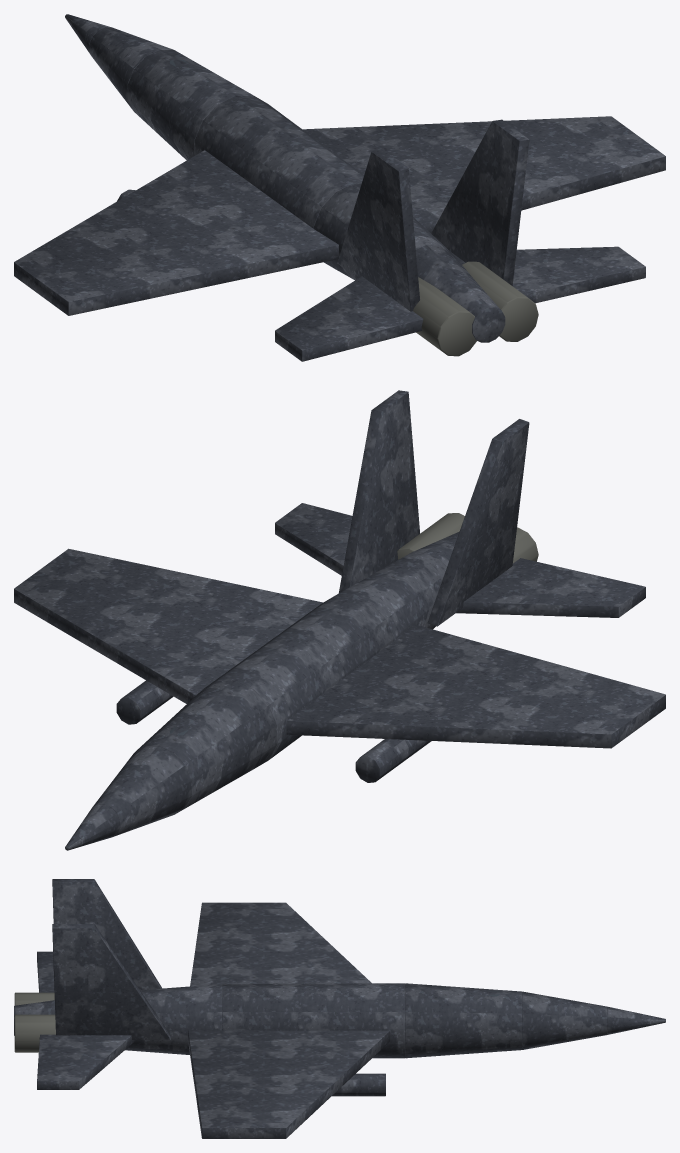
File: air_e4_us_strike_LOD0.glb
The picture shows the model from 3 angles, top to bottom: view 1: azimuth 30°, elevation 25°; view 2: azimuth 150°, elevation 25°; view 3: azimuth 270°, elevation 25°; orthographic projection. The views are drawn at different scales.
Visible parts, largest first — view 1: air_e4_us_strike_LOD0_body, air_e4_us_strike_LOD0_gun; view 2: air_e4_us_strike_LOD0_body, air_e4_us_strike_LOD0_gun; view 3: air_e4_us_strike_LOD0_body, air_e4_us_strike_LOD0_gun.
Part boxes in pixels (x1,y1,x2,y2): air_e4_us_strike_LOD0_body: (14, 14, 665, 361); air_e4_us_strike_LOD0_gun: (413, 261, 538, 356); air_e4_us_strike_LOD0_body: (14, 390, 665, 850); air_e4_us_strike_LOD0_gun: (397, 513, 538, 563); air_e4_us_strike_LOD0_body: (14, 879, 665, 1138); air_e4_us_strike_LOD0_gun: (14, 992, 55, 1052).
Bounding box in the file's own units: 13.9 × 4.37 × 17.
3 materials, 1 textured.
